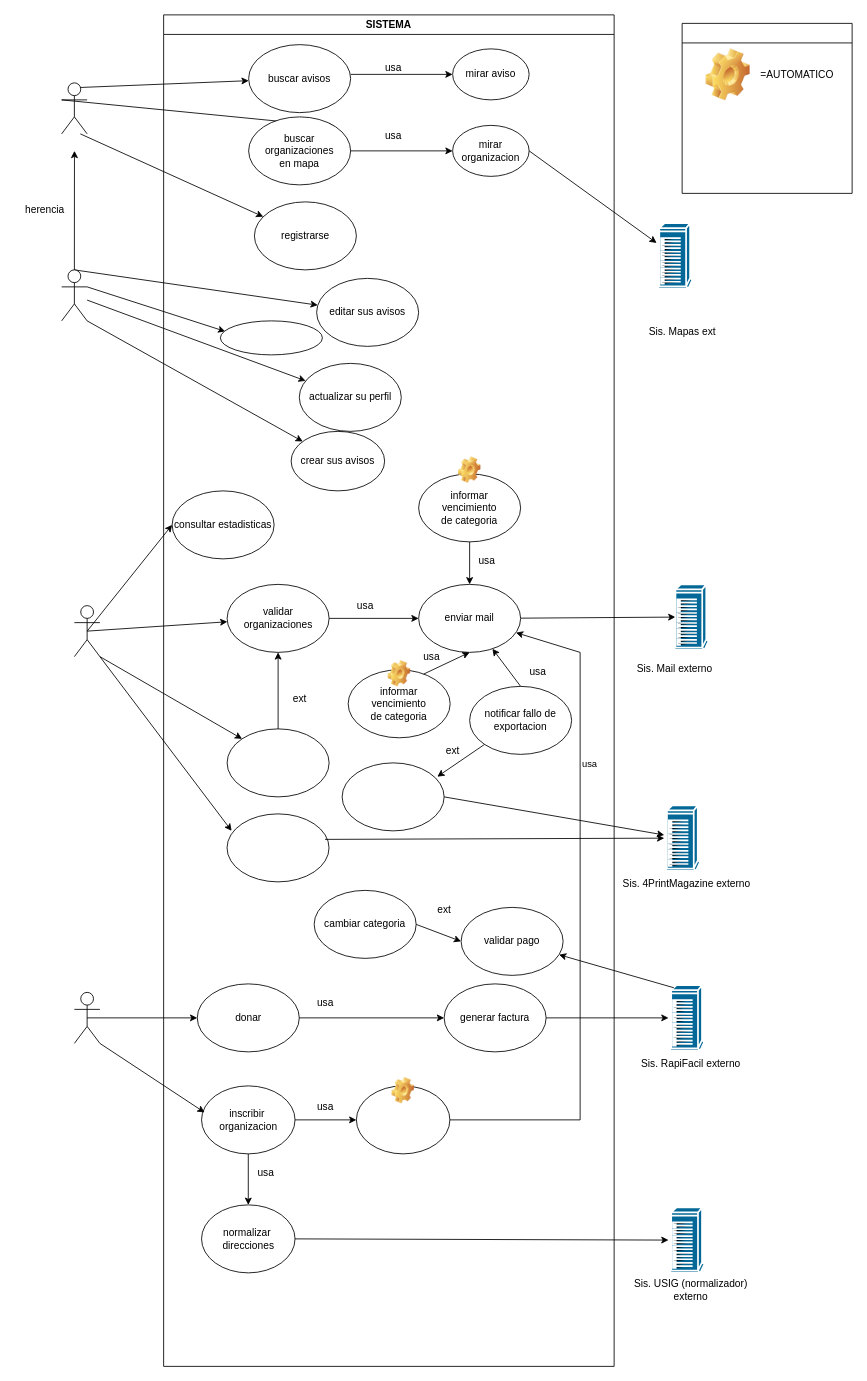
Some shapes in this 867 by 1381 pixel diagram are drawn without their labels. The shapes that lost their labels are listed below. From the top down, each one's box as (x1, y1, x2, y2) in pixels, then its label:
(61, 82, 87, 134): usuario visitante
(681, 23, 852, 193): LEYENDAS
(61, 269, 87, 321): usuario
(220, 320, 322, 355): loguearse
(74, 605, 100, 657): coordinador
(226, 728, 329, 797): cambiar estado de solicitud
(341, 762, 444, 831): enviar info a 4PrintMagazine
(226, 813, 329, 882): Reintento Manual de Exportacion
(74, 992, 100, 1043): representante de organizacion
(356, 1085, 450, 1154): notificar registro
